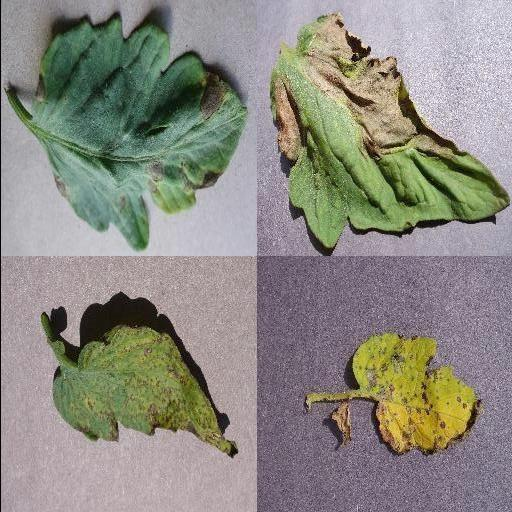Early Blight: (35, 15, 247, 250)
Late Blight: (269, 13, 511, 249)
Septoria: (49, 323, 239, 457), (350, 332, 484, 456)
